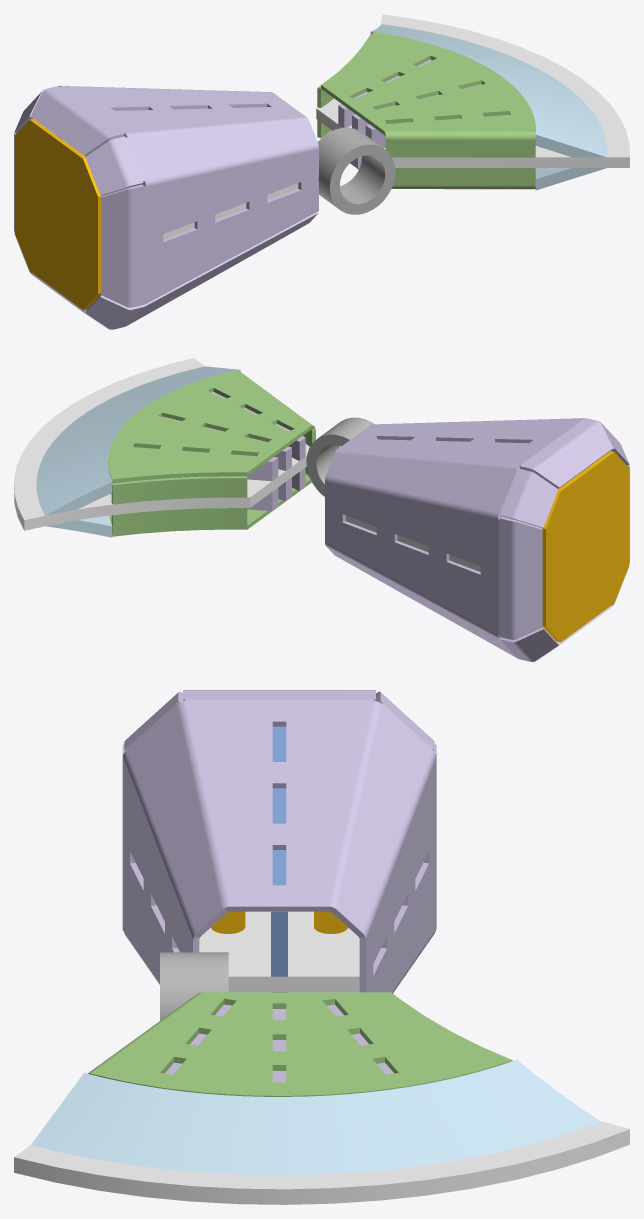
3 views of the same model, one above another, from view 1: azimuth 30°, elevation 25°; view 2: azimuth 150°, elevation 25°; view 3: azimuth 270°, elevation 25° (orthographic). The views are drawn at different scales.
Parts seen in each view (by area): view 1: Part 3, Part 5, Part 2, Part 17, Part 4, Part 18, Part 14, Part 10, Part 16; view 2: Part 3, Part 5, Part 2, Part 4, Part 17, Part 6, Part 15, Part 18, Part 14, Part 10, Part 16, Part 8; view 3: Part 3, Part 4, Part 5, Part 17, Part 16, Part 18, Part 1, Part 2.
Part boxes in pixels (x1,y1,x2,y2): Part 3: (14, 86, 318, 329); Part 5: (321, 31, 535, 157); Part 2: (14, 118, 101, 309); Part 17: (316, 14, 629, 167); Part 4: (370, 24, 607, 157); Part 18: (317, 127, 395, 214); Part 14: (321, 130, 535, 189); Part 10: (535, 168, 606, 190); Part 16: (163, 183, 298, 239); Part 3: (325, 418, 629, 661); Part 5: (108, 370, 315, 483); Part 2: (542, 451, 629, 642); Part 4: (36, 366, 240, 515); Part 17: (14, 358, 309, 530); Part 6: (111, 476, 247, 504); Part 15: (111, 507, 247, 534); Part 18: (306, 417, 374, 496); Part 14: (109, 466, 311, 536); Part 10: (46, 493, 112, 537); Part 16: (345, 515, 480, 571); Part 8: (214, 457, 278, 481); Part 3: (122, 690, 436, 993); Part 4: (31, 1059, 600, 1175); Part 5: (88, 992, 512, 1096); Part 17: (14, 1121, 629, 1204); Part 16: (199, 911, 359, 991); Part 18: (160, 952, 228, 1020); Part 1: (271, 726, 287, 992); Part 2: (211, 911, 348, 933).
Bounding box in the file's own units: 0.3326 × 0.116 × 0.2276.
